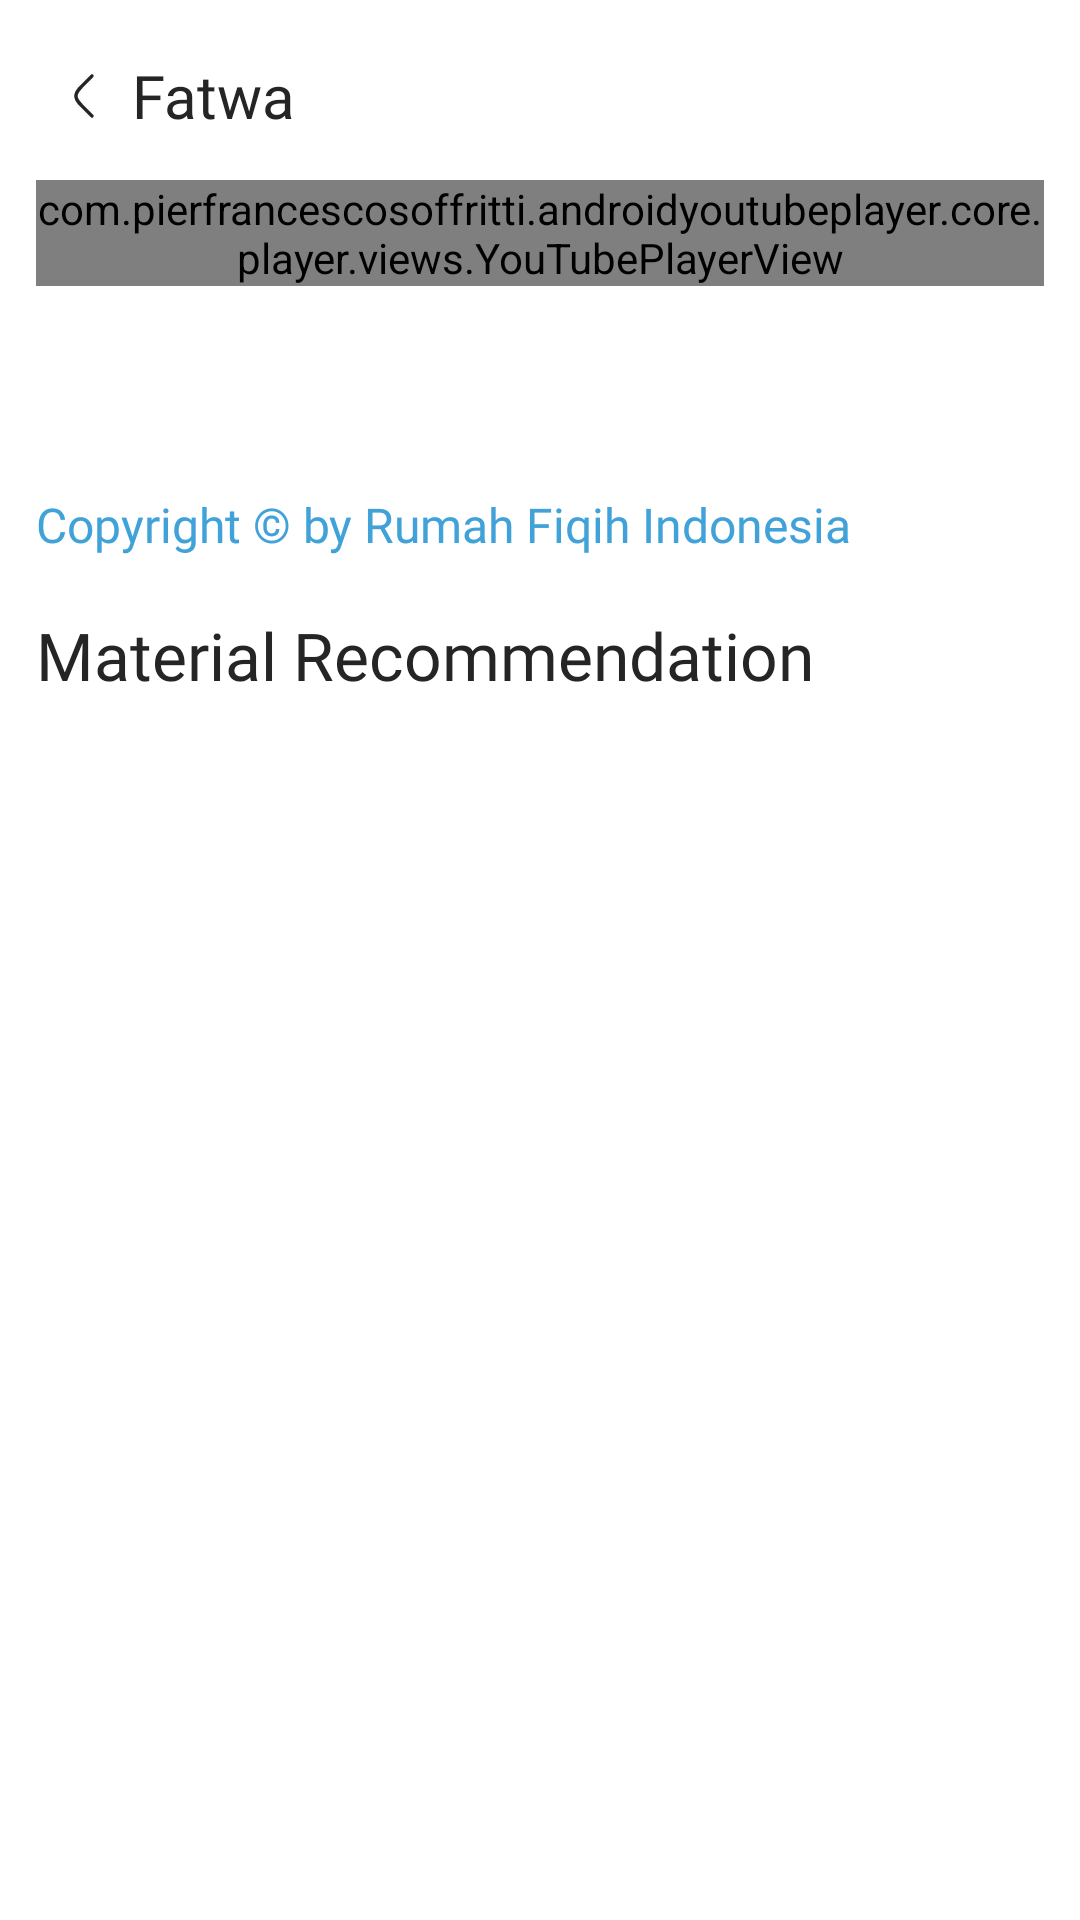

Point at icon controls on the screen. Image size 1080 x 1920, points as (x,y).
left: (84,96)
